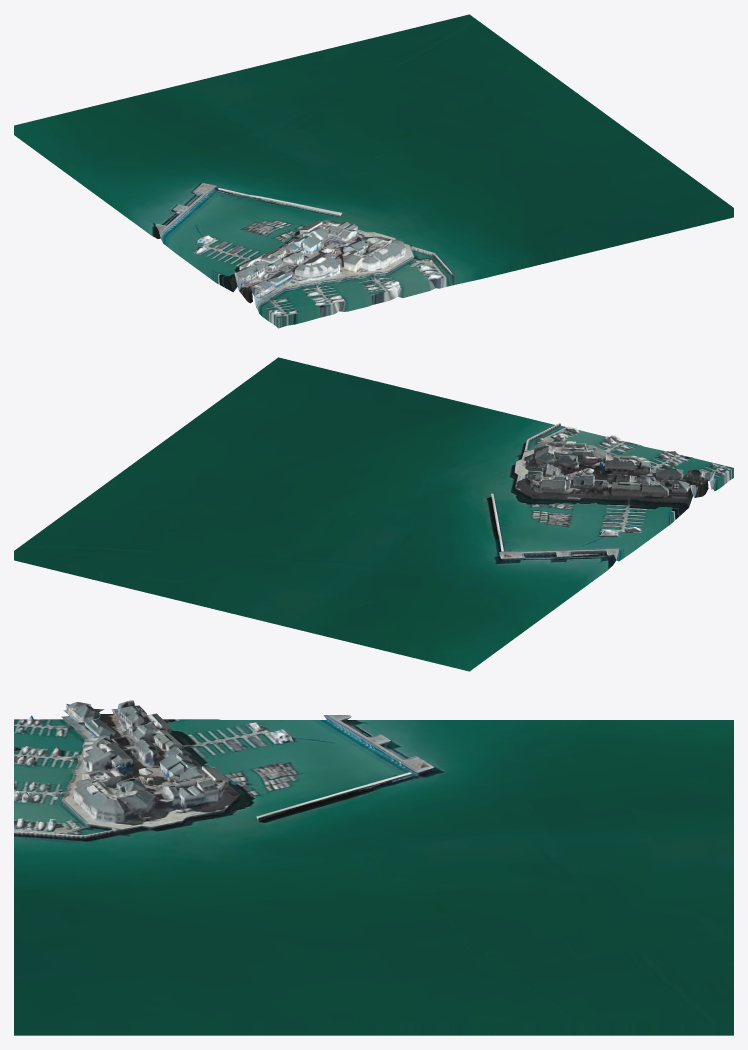
The model's file is z16-10483-25322-h0-yup-uvflip-v3-world.glb.
The picture shows the model from 3 angles, top to bottom: view 1: azimuth 30°, elevation 25°; view 2: azimuth 150°, elevation 25°; view 3: azimuth 270°, elevation 25°; orthographic projection. The views are drawn at different scales.
Size of the model in its own units: 483 by 26.88 by 485.
1 material, 1 textured.
